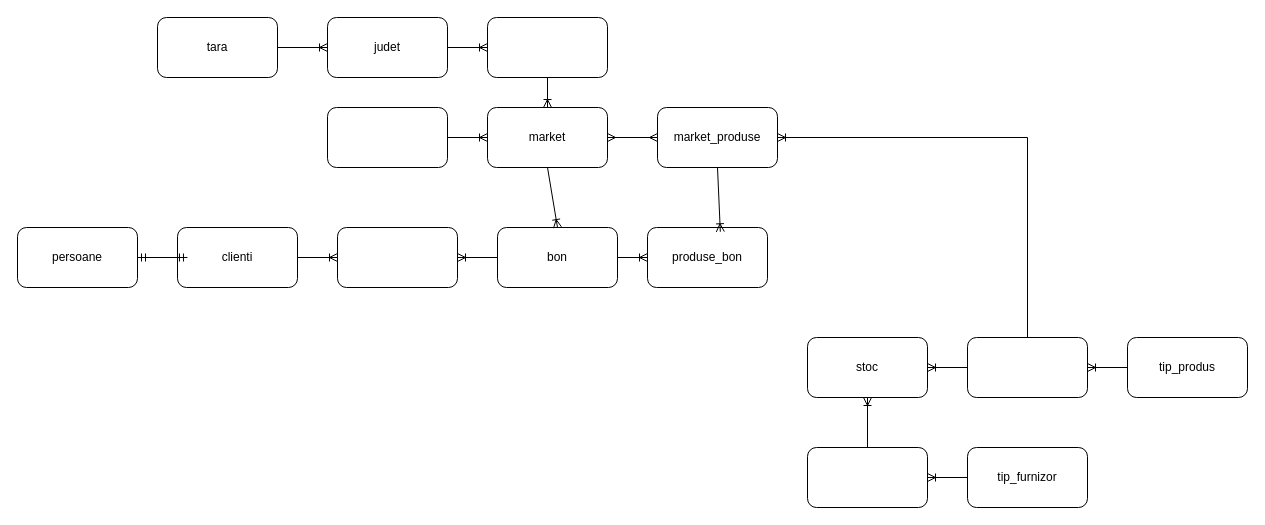
This 1265x525 diagram has some shape labels left out. The shapes that lost their labels are listed below. From the top down, each one's centre as x and y in pixels, then its label:
At [547,47]: "uat".
At [387,137]: "tip_market".
At [397,257]: "client_vanzari".
At [1027,367]: "produse".
At [867,477]: "furnizor".
